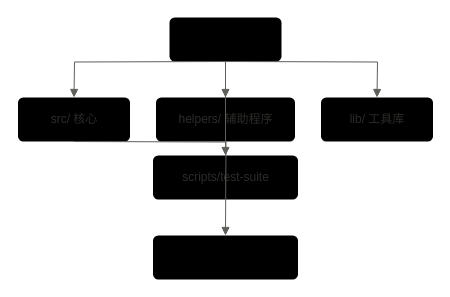
This 450x297 diagram has some shape labels left out. Here are the shapes that lost their labels. From the top down, the centre of each, then its label:
(225,39): Squid 源码根
(225,257): src/acl ssl fs log
